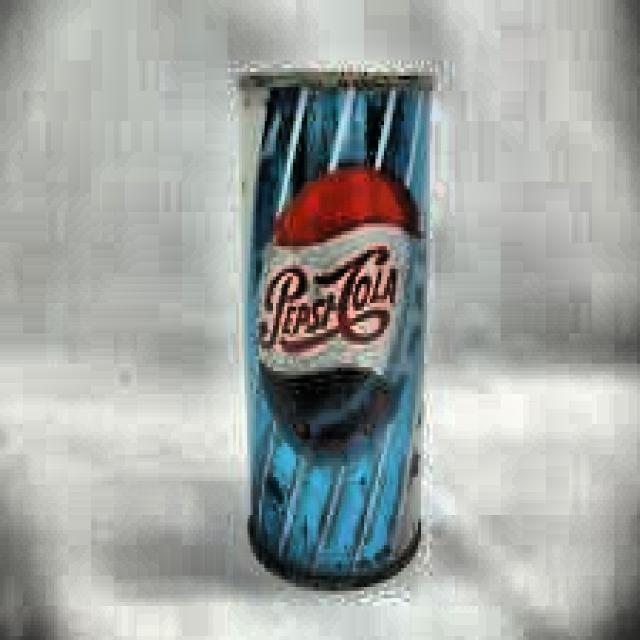Cans: (224, 19, 436, 601)
